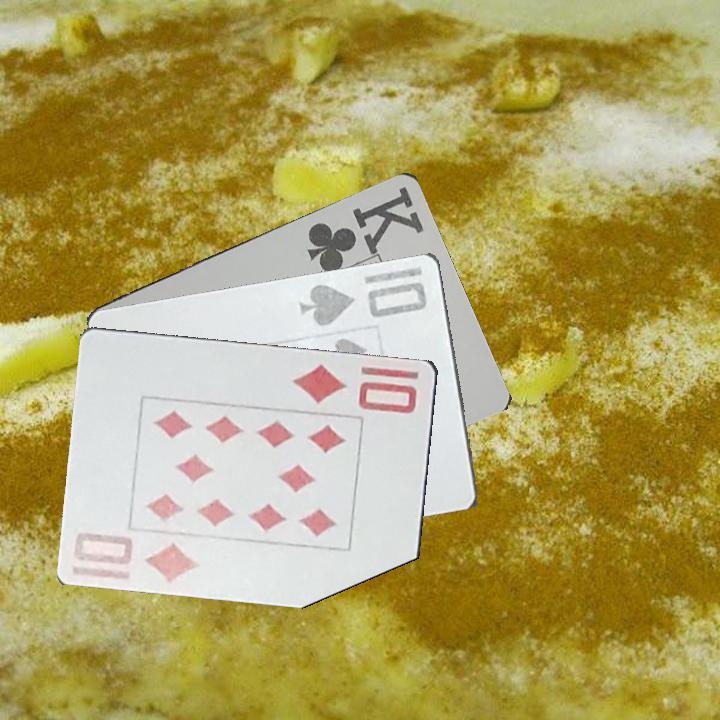Kc: (302, 182, 427, 274)
Td: (70, 528, 203, 584), (290, 360, 421, 416)
Ts: (296, 277, 431, 329)
